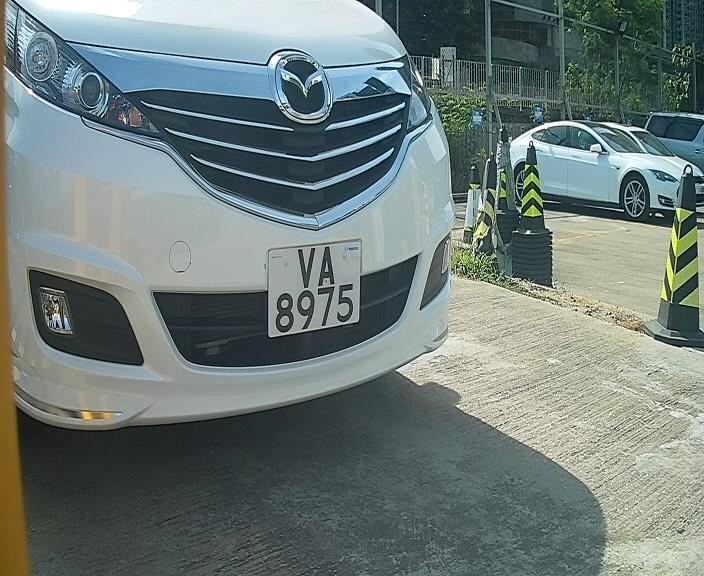privatecar: (13, 13, 469, 443)
